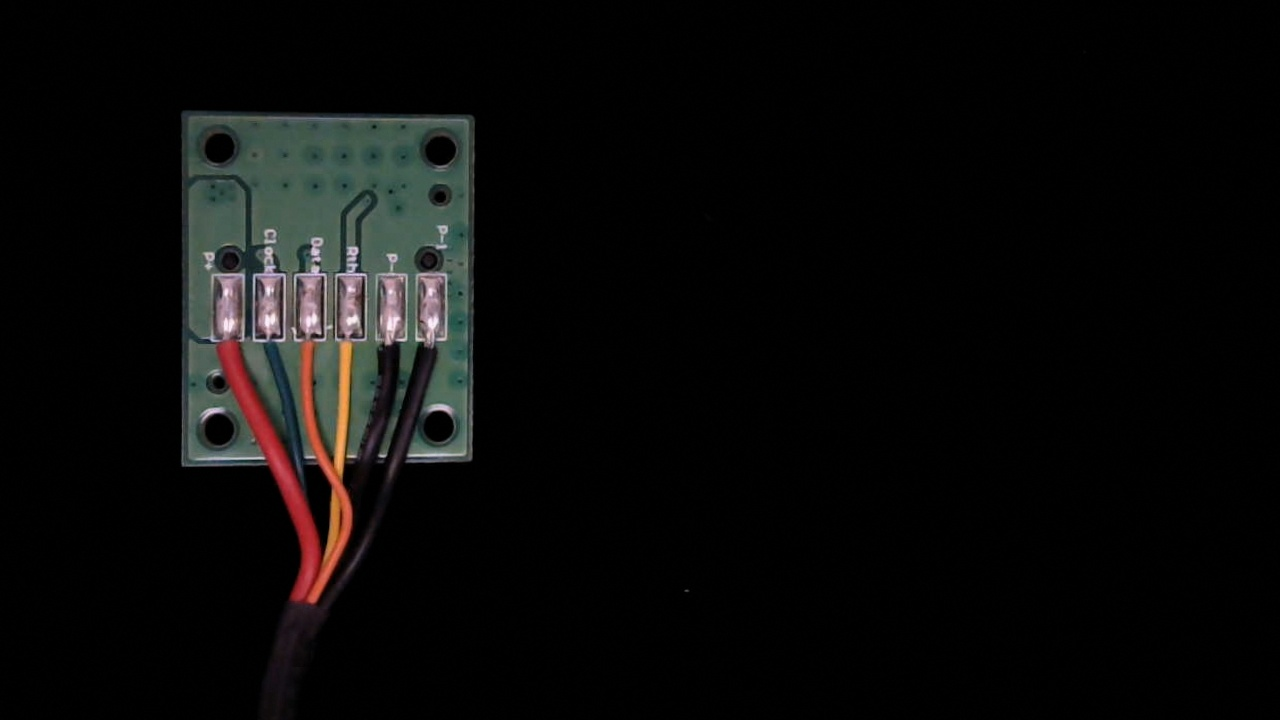Black: (373, 325, 403, 390)
Black1: (414, 326, 447, 387)
Green: (252, 326, 288, 382)
Orange: (294, 325, 326, 386)
Red: (209, 327, 244, 387)
Yellow: (332, 325, 366, 392)
